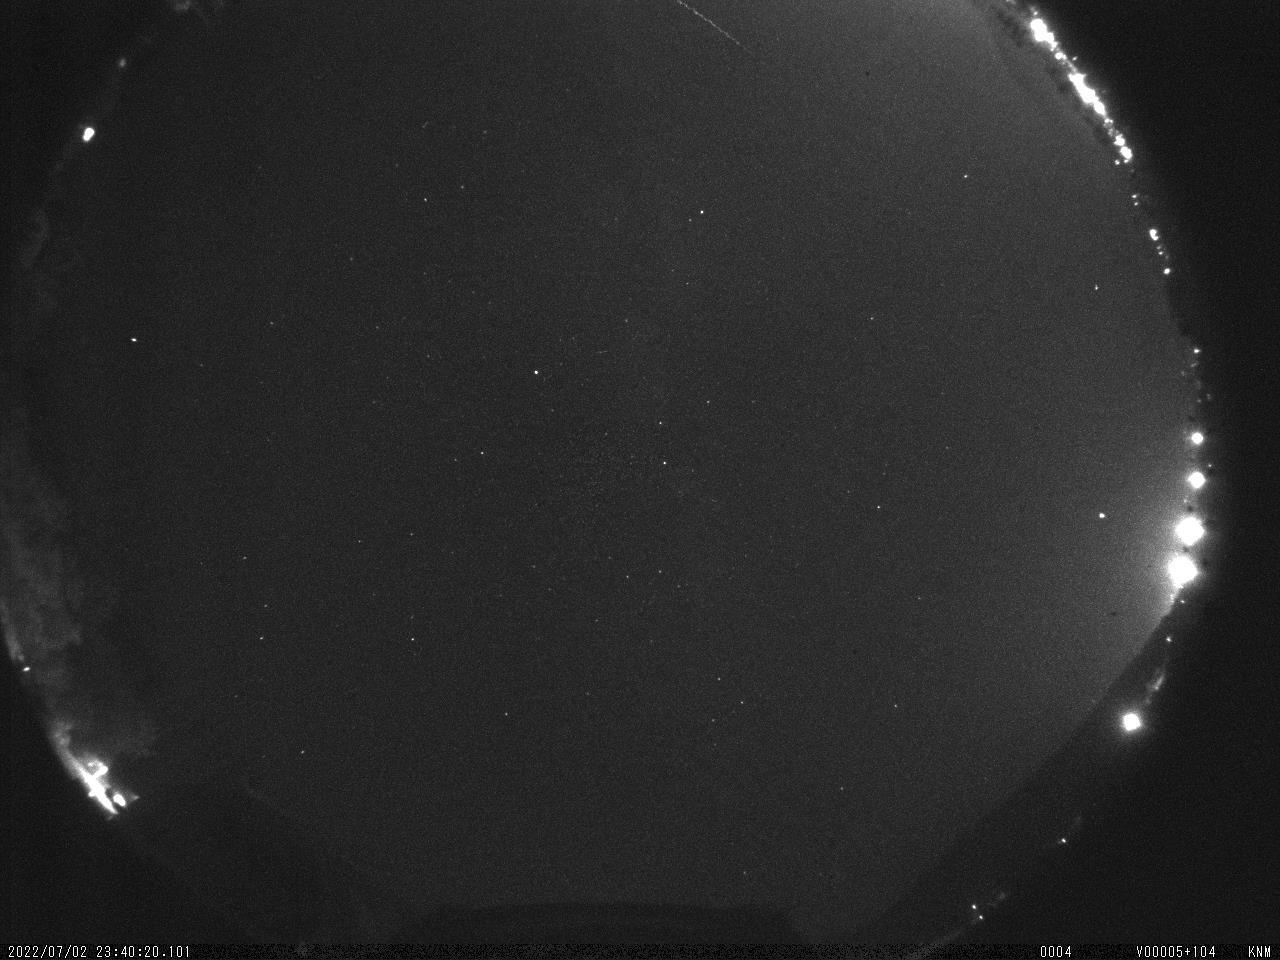Meteor: (673, 0, 779, 82)
